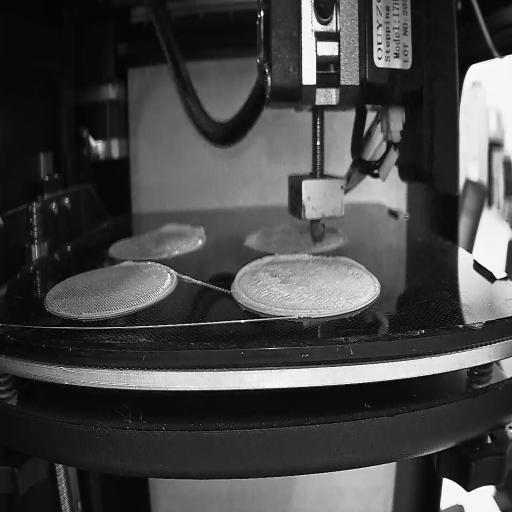over_extrusion: (232, 254, 314, 319), (333, 252, 366, 276), (159, 223, 205, 237), (325, 222, 345, 238), (117, 261, 138, 269)
